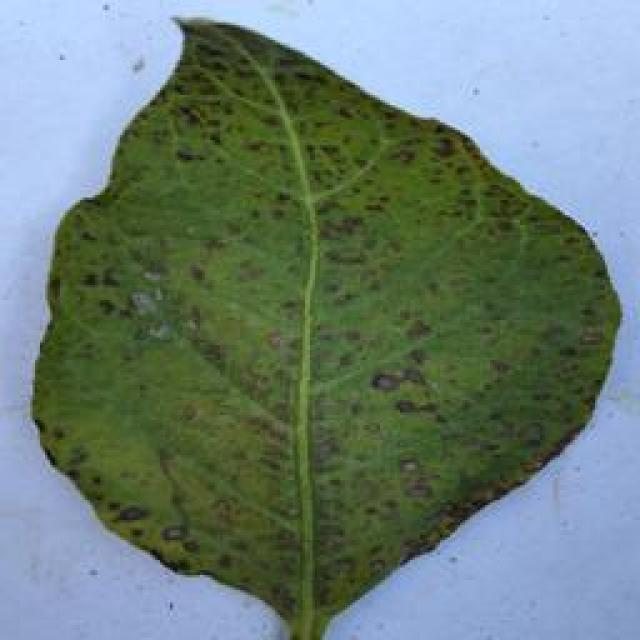Potato_Early_Blight: (4, 13, 634, 639)
